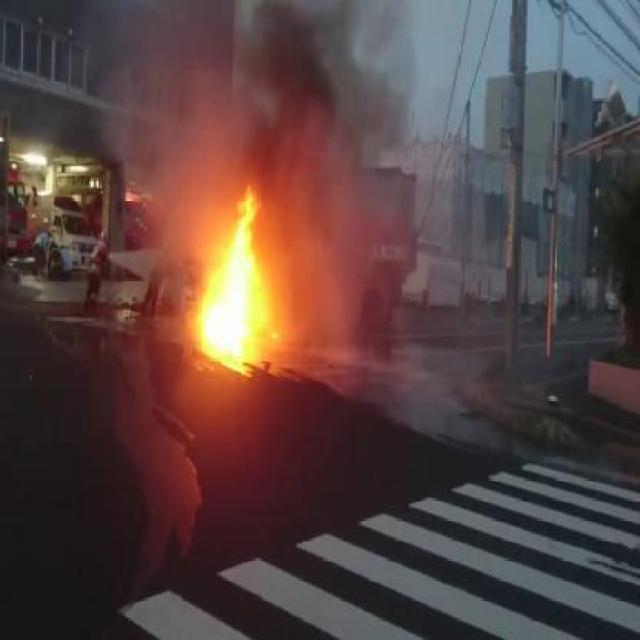Fire: (189, 192, 280, 376)
